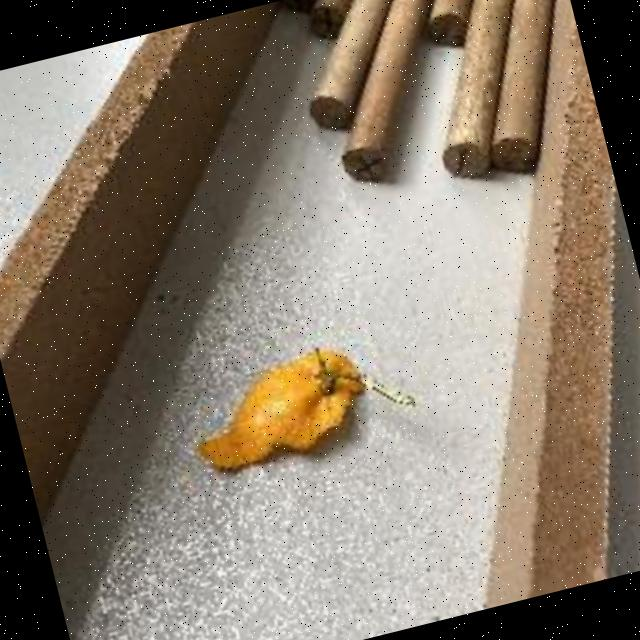orange-peel: (178, 334, 380, 480)
